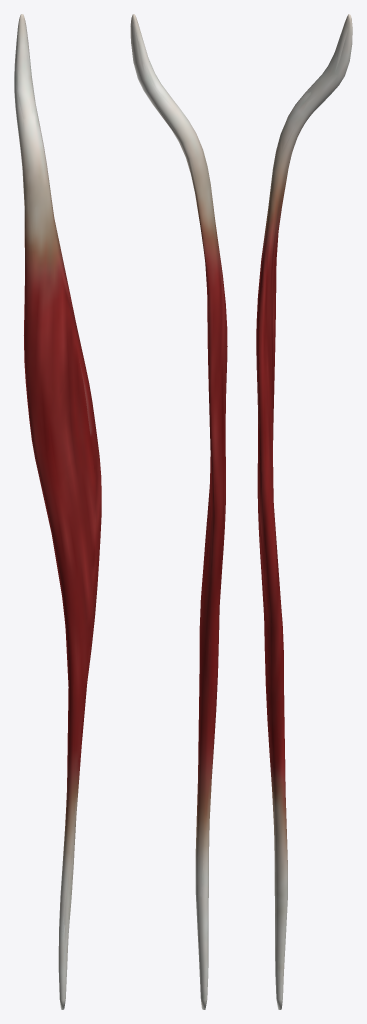
The model's file is L Flexor carpi radialis.fbx.
The picture shows the model from 3 angles, left to right: view 1: azimuth 90°, elevation 25°; view 2: azimuth 150°, elevation 25°; view 3: azimuth 330°, elevation 25°; orthographic projection. The views are drawn at different scales.
Visible parts, largest first — view 1: L Flexor carpi radialis, L Flexor carpi radialis low, L Flexor carpi radialis high; view 2: L Flexor carpi radialis, L Flexor carpi radialis low, L Flexor carpi radialis high; view 3: L Flexor carpi radialis, L Flexor carpi radialis low, L Flexor carpi radialis high.
Part boxes in pixels (bbox=[...]): L Flexor carpi radialis: bbox=[14, 14, 101, 1009]; L Flexor carpi radialis low: bbox=[14, 14, 99, 1007]; L Flexor carpi radialis high: bbox=[15, 21, 97, 952]; L Flexor carpi radialis: bbox=[130, 14, 227, 1009]; L Flexor carpi radialis low: bbox=[131, 14, 227, 991]; L Flexor carpi radialis high: bbox=[133, 15, 226, 916]; L Flexor carpi radialis: bbox=[256, 14, 352, 1009]; L Flexor carpi radialis low: bbox=[256, 14, 351, 1006]; L Flexor carpi radialis high: bbox=[257, 15, 351, 983].
Bounding box in the file's own units: 0.9773 × 11.04 × 0.9021.
